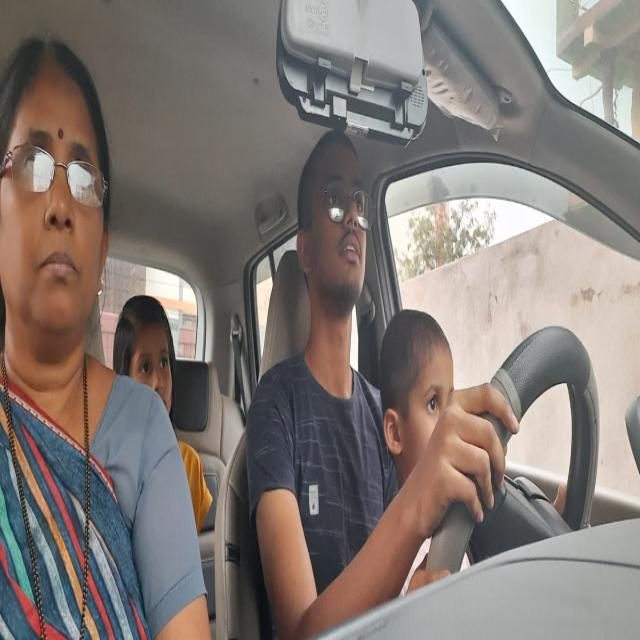child: (376, 302, 459, 487)
person: (1, 32, 122, 416), (292, 115, 380, 328), (109, 283, 190, 417)
